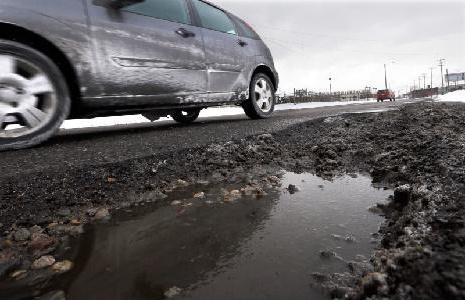pothole: (0, 105, 464, 299)
